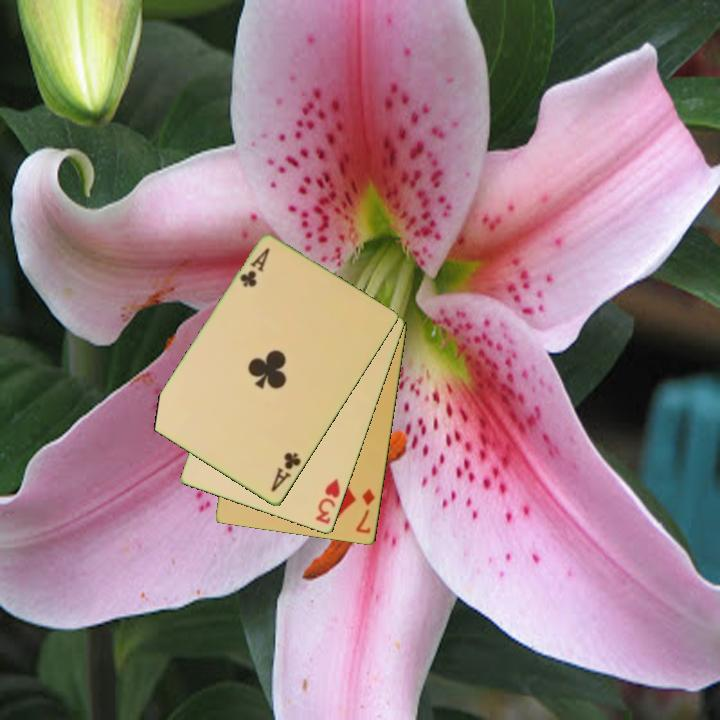3h: (312, 475, 343, 527)
7d: (352, 485, 378, 537)
Ac: (267, 449, 304, 496), (236, 244, 273, 291)
